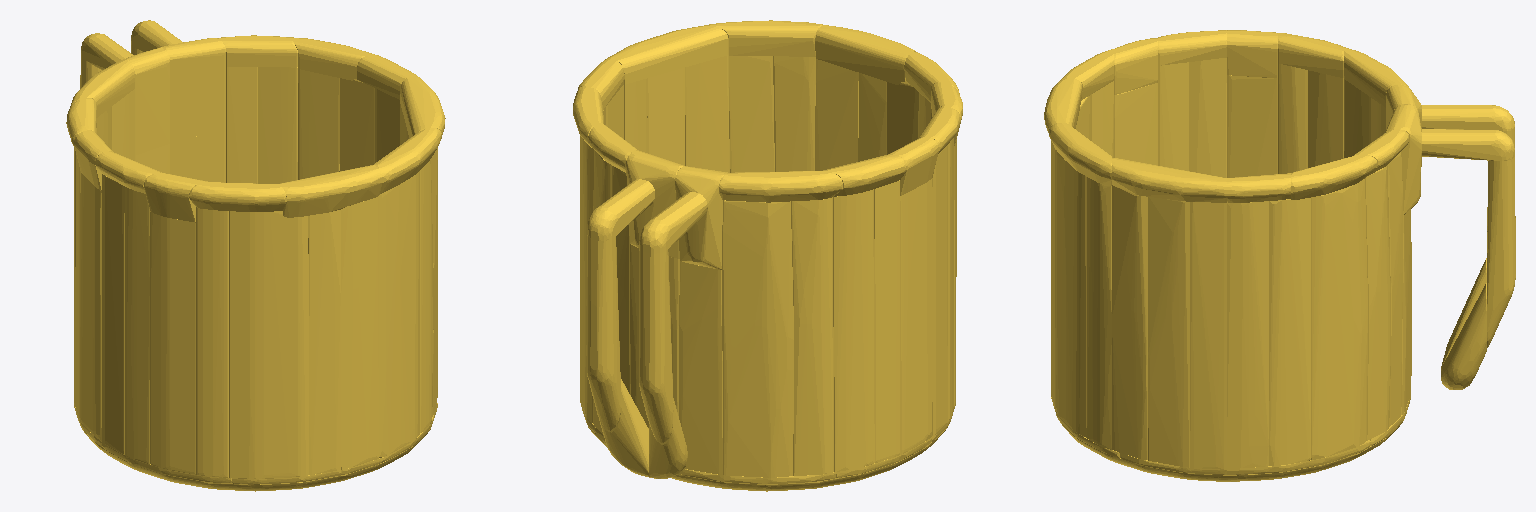
URDF robot description (51.urdf):
<?xml version="1.0" ?>
<robot name="51.urdf">
	<link name="baseLink">
		<inertial>
			<origin rpy="0 0 0" xyz="0 0 0"/>
				<mass value="0.1"/>
				<inertia ixx="6e-5" ixy="0" ixz="0" iyy="6e-5" iyz="0" izz="6e-5"/>
		</inertial>
		<visual>
			<origin rpy="0 0 0" xyz="0 0 0"/>
			<geometry>
				<mesh filename="28_decom_wt.obj" scale="1.09 1.09 0.96"/>
			</geometry>
			<material name="yellow">
				<color rgba="0.98 0.84 0.35 1"/>
			</material>
		</visual>
		<collision>
			<origin rpy="0 0 0" xyz="0 0 0"/>
			<geometry>
				<mesh filename="28_decom_wt.obj" scale="1.09 1.09 0.96"/>
			</geometry>
		</collision>
	</link>
</robot>

--- Render facts (derived) ---
3 views of the same robot in one strip: view 1: azimuth 30°, elevation 25°; view 2: azimuth 150°, elevation 25°; view 3: azimuth 270°, elevation 25° (orthographic).
Model 51.urdf with 1 links and 0 joints (none), rooted at baseLink, posed all joints at 0.
Links seen in each view (by area): view 1: baseLink; view 2: baseLink; view 3: baseLink.
Link boxes in pixels (x1,y1,x2,y2): baseLink: [66, 20, 445, 491]; baseLink: [573, 20, 962, 491]; baseLink: [1044, 30, 1515, 481].
Bounding box of the posed robot: 0.1265 × 0.1594 × 0.115 m (x, y, z).
1 mesh visuals loaded from 1 distinct referenced files (1 OBJ).